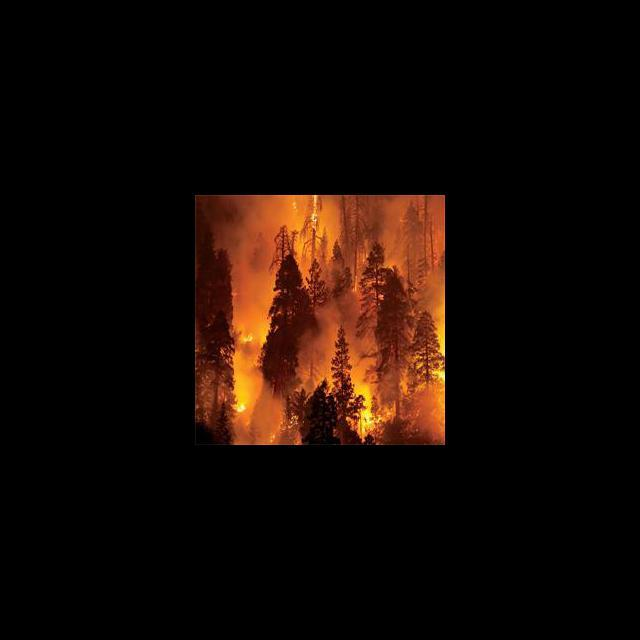Fire: (346, 382, 391, 435), (285, 195, 326, 229), (429, 312, 445, 389), (237, 325, 260, 348), (234, 393, 251, 416)
